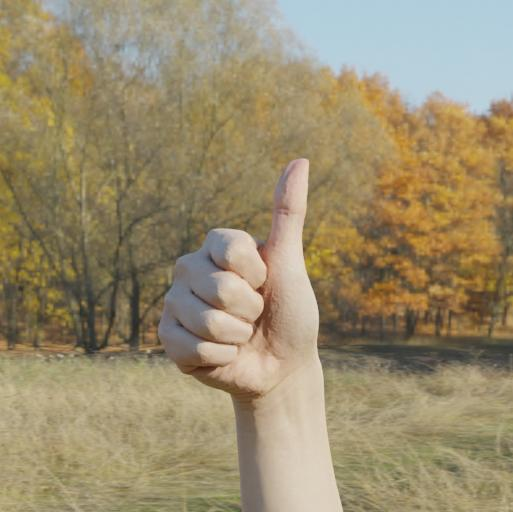thumbs-up: (160, 154, 321, 397)
